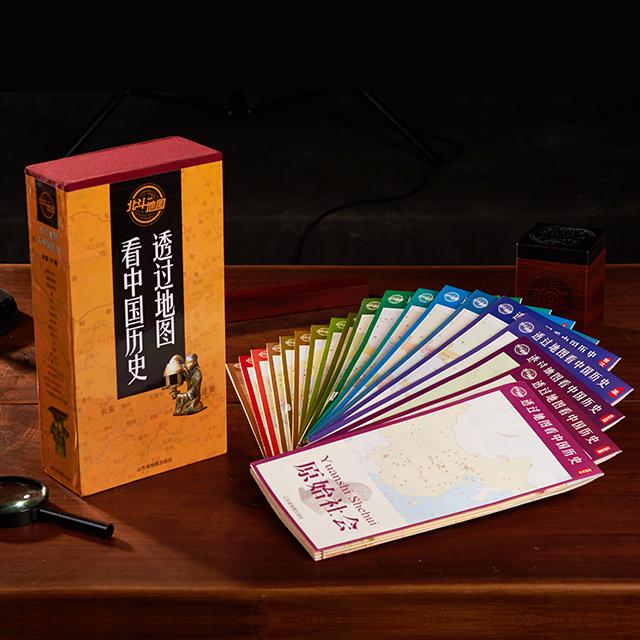Nine Dash Line: (204, 157, 507, 639)
